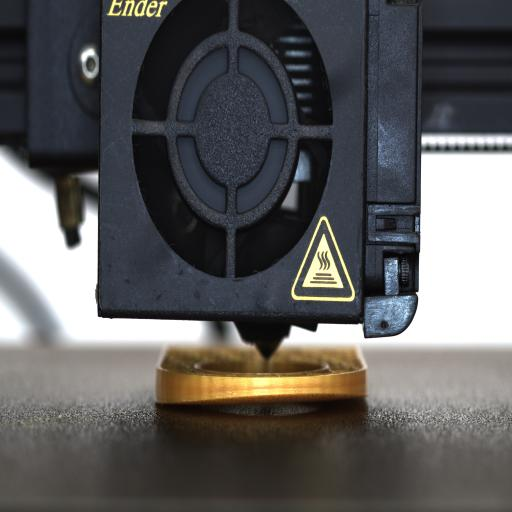warp: (153, 380, 369, 412)
